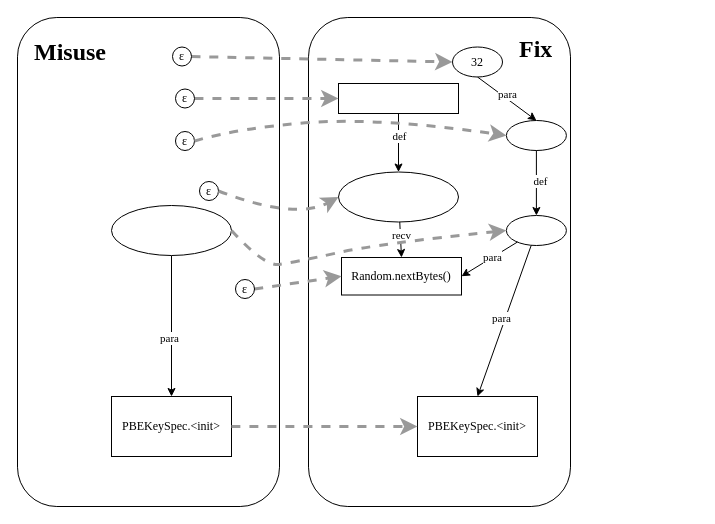
This 715x524 diagram has some shape labels left out. The shapes that lost their labels are listed below. From the top down, each one's box as (x1, y1, x2, y2) in pixels, then its label:
(338, 82, 458, 114): SecureRandom.<init>
(505, 120, 566, 150): {byte}
(338, 171, 458, 222): SecureRandom
(110, 204, 232, 256): ByteLiterals.CONST
(505, 214, 566, 246): byte[]
